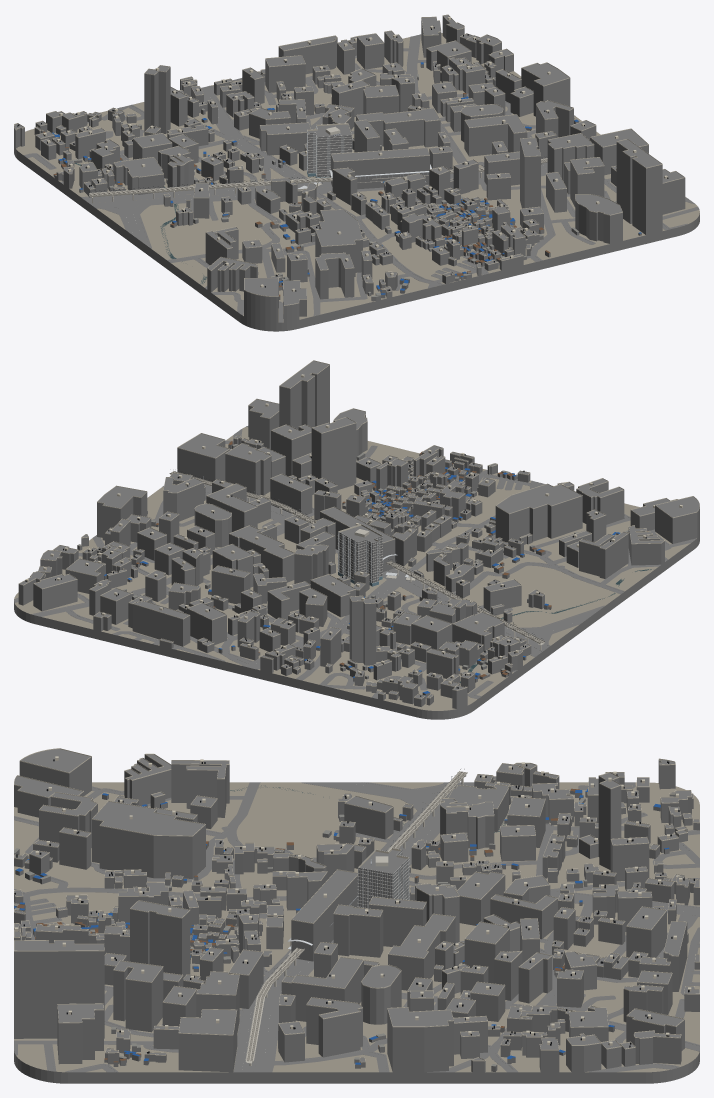
File: privilon.glb
3 renders of one model, top to bottom at view 1: azimuth 30°, elevation 25°; view 2: azimuth 150°, elevation 25°; view 3: azimuth 270°, elevation 25°, orthographic. The views are drawn at different scales.
Visible parts, largest first — view 1: context, ground, plinth, rooftops, opt_privilon, metro; view 2: context, ground, plinth, rooftops, opt_privilon, metro; view 3: context, ground, plinth, rooftops, opt_privilon, metro.
Part boxes in pixels (bbox=[...]): context: bbox=[14, 14, 685, 322]; ground: bbox=[16, 33, 699, 322]; plinth: bbox=[14, 145, 699, 331]; rooftops: bbox=[17, 17, 668, 291]; opt_privilon: bbox=[307, 123, 352, 177]; metro: bbox=[89, 157, 547, 203]; context: bbox=[18, 360, 699, 708]; ground: bbox=[14, 426, 696, 710]; plinth: bbox=[14, 533, 699, 719]; rooftops: bbox=[25, 374, 682, 696]; opt_privilon: bbox=[337, 524, 382, 586]; metro: bbox=[169, 469, 544, 650]; context: bbox=[14, 748, 699, 1072]; ground: bbox=[14, 782, 699, 1072]; plinth: bbox=[14, 1051, 699, 1083]; rooftops: bbox=[14, 756, 694, 1053]; opt_privilon: bbox=[357, 848, 409, 908]; metro: bbox=[245, 769, 467, 1065].
Size of the model in its own units: 761 by 124 by 760.
